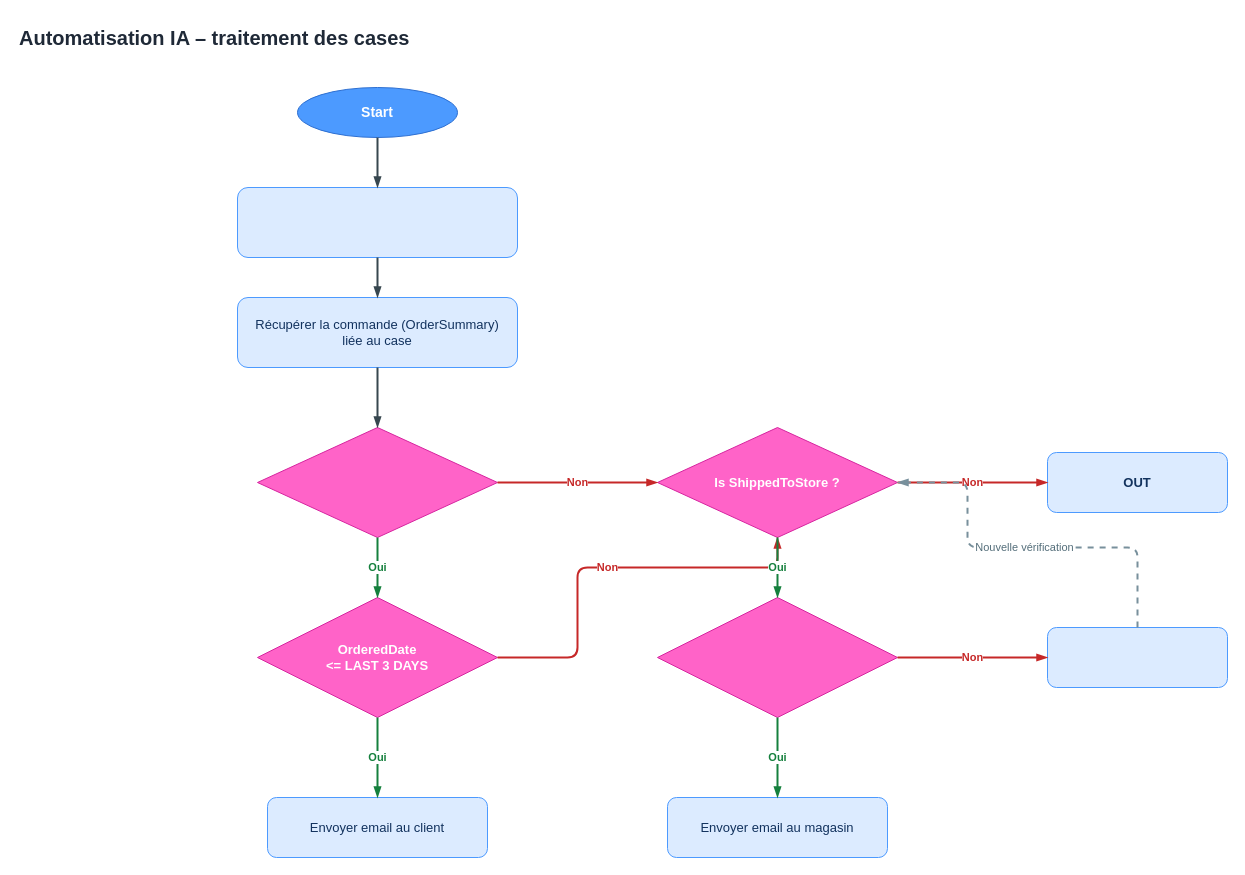
The diagram is 1245 pixels wide and 875 high, and some of its shapes have lost their labels. The shapes that lost their labels are listed below. From the top down, each one's centre as x and y in pixels, then its label:
At [377,222]: "Case créé Motif2__c ∈ ('M20006', 'M20010')".
At [377,482]: "Is Assigned ?".
At [777,657]: "LastModifiedDate > 1 DAY".
At [1137,657]: "Recheck J+1".
